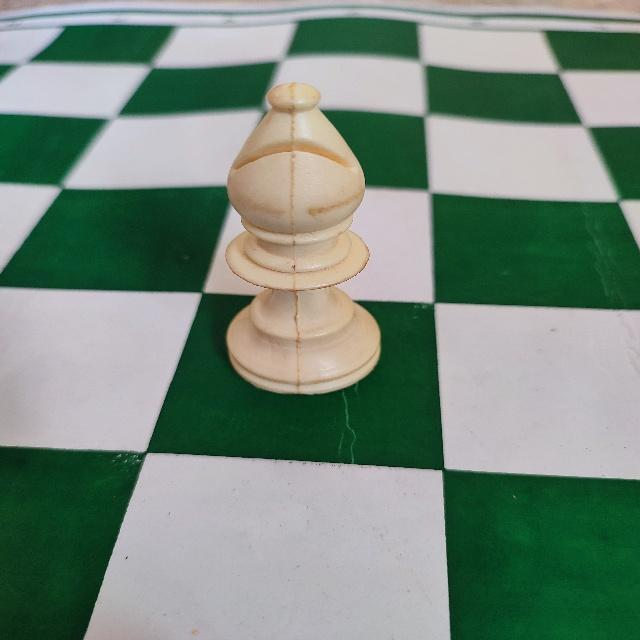Bishop: (212, 80, 384, 398)
